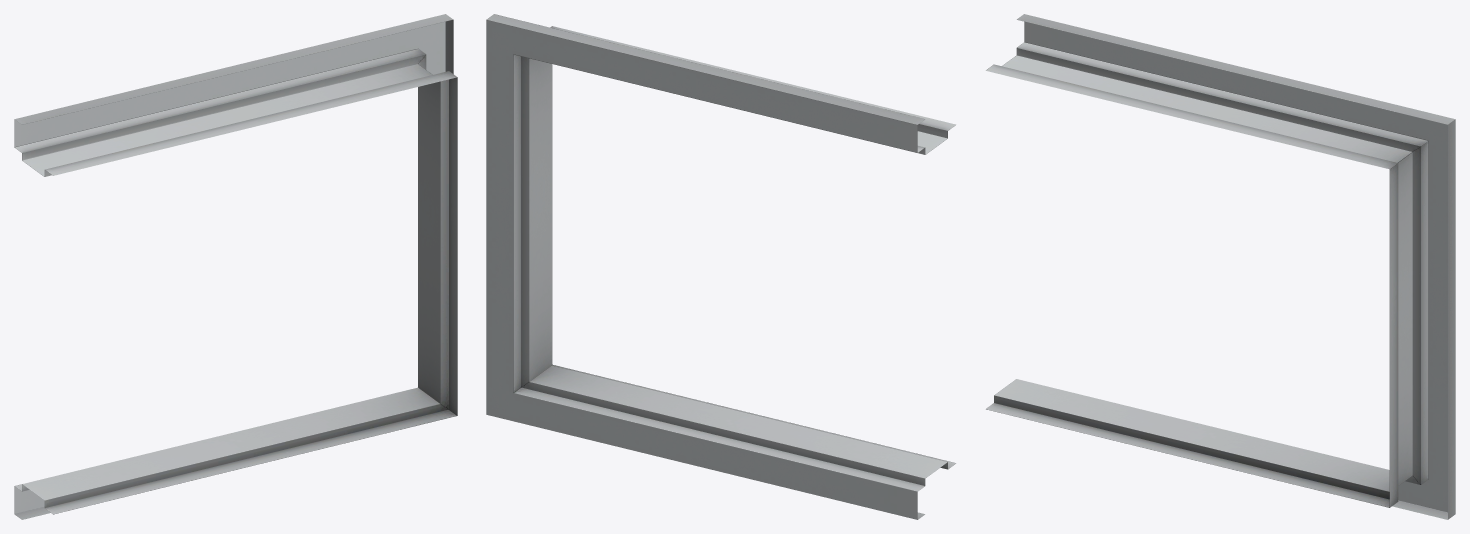
File: props_spytech_doorframe002a.glb
3 views of the same model, side by side, from view 1: azimuth 30°, elevation 25°; view 2: azimuth 150°, elevation 25°; view 3: azimuth 330°, elevation 25° (orthographic).
Parts seen in each view (by area): view 1: models/props_spytech/doorframe002a; view 2: models/props_spytech/doorframe002a; view 3: models/props_spytech/doorframe002a.
Part boxes in pixels (left/top/right/bottom): models/props_spytech/doorframe002a: left=14, top=14, right=457, bottom=519; models/props_spytech/doorframe002a: left=486, top=14, right=955, bottom=519; models/props_spytech/doorframe002a: left=986, top=14, right=1455, bottom=519.
Size of the model in its own units: 128 by 112 by 20.
Materials: 1 (1 with a texture image).
